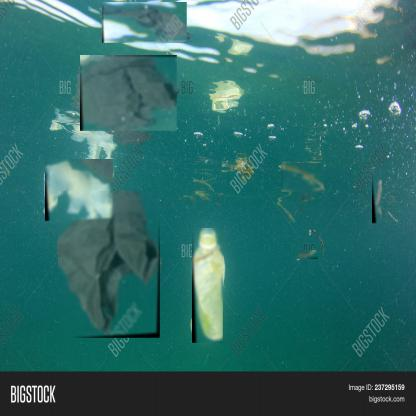bottle: (192, 228, 224, 344)
plastic-bag: (58, 191, 161, 339), (80, 55, 178, 132), (102, 2, 188, 44)
waste: (45, 159, 114, 222), (281, 163, 325, 193), (372, 178, 383, 226), (295, 250, 319, 260)
